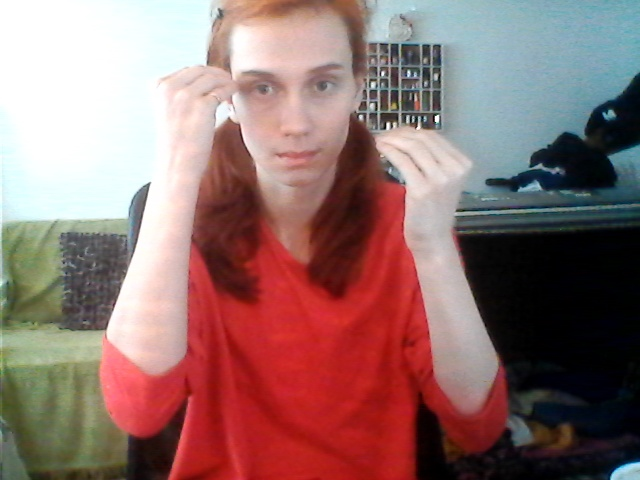ucit: (139, 56, 492, 181)
